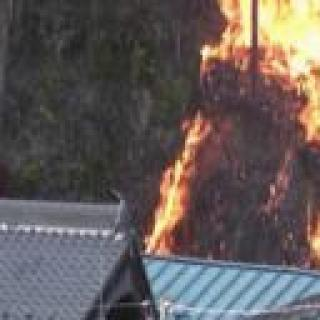fire: (151, 0, 320, 263)
